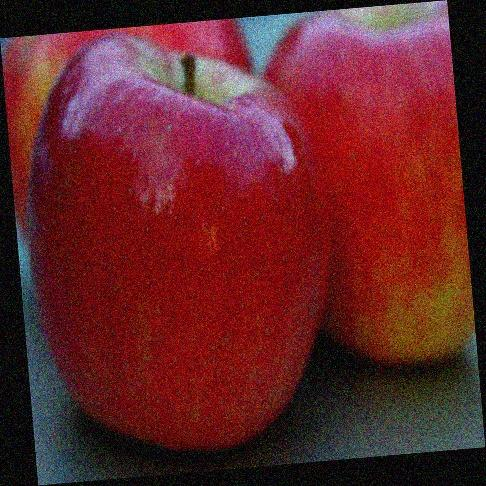red apple: (31, 30, 324, 454)
